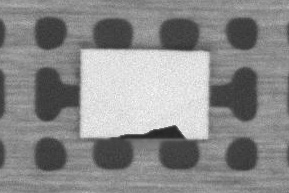DIE_BROKEN: (110, 124, 187, 139)
